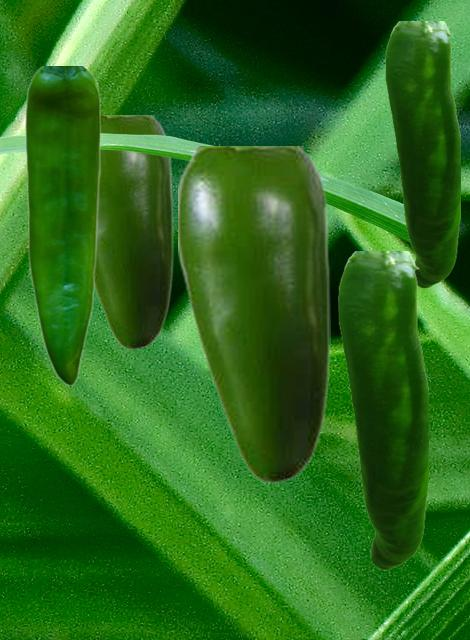green_chili: (178, 146, 329, 483), (338, 251, 427, 569), (24, 66, 100, 384), (385, 21, 459, 287), (95, 115, 172, 349)
